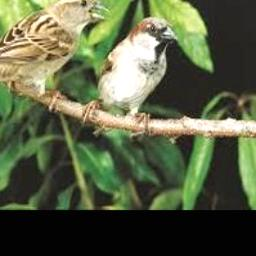Sparrow: (0, 0, 111, 112), (82, 16, 179, 135)
